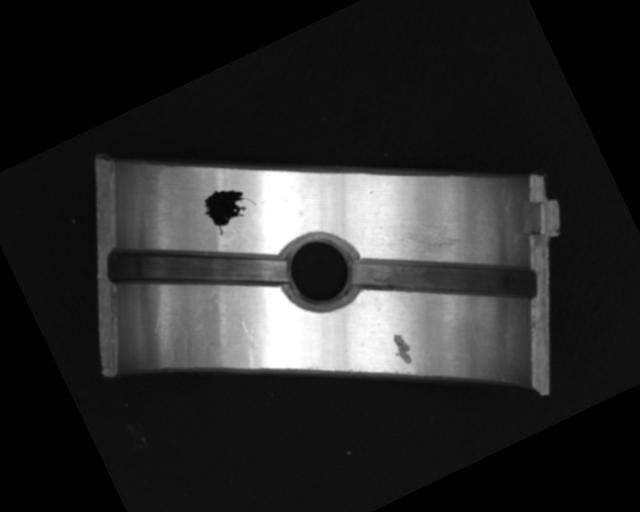blot: (195, 176, 261, 239)
bruise: (386, 328, 418, 369)
gap: (349, 197, 538, 359), (101, 185, 289, 343)
hole: (267, 217, 372, 322)
nick: (229, 317, 270, 370)
scratch: (388, 200, 471, 271)
